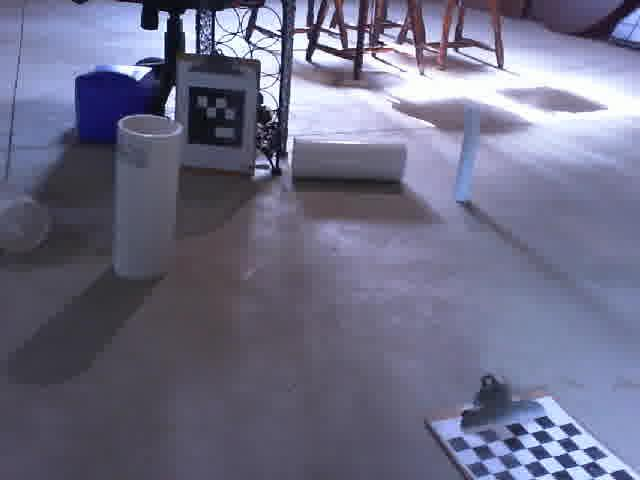coral: (109, 112, 186, 283), (285, 135, 411, 187), (0, 182, 56, 258)
